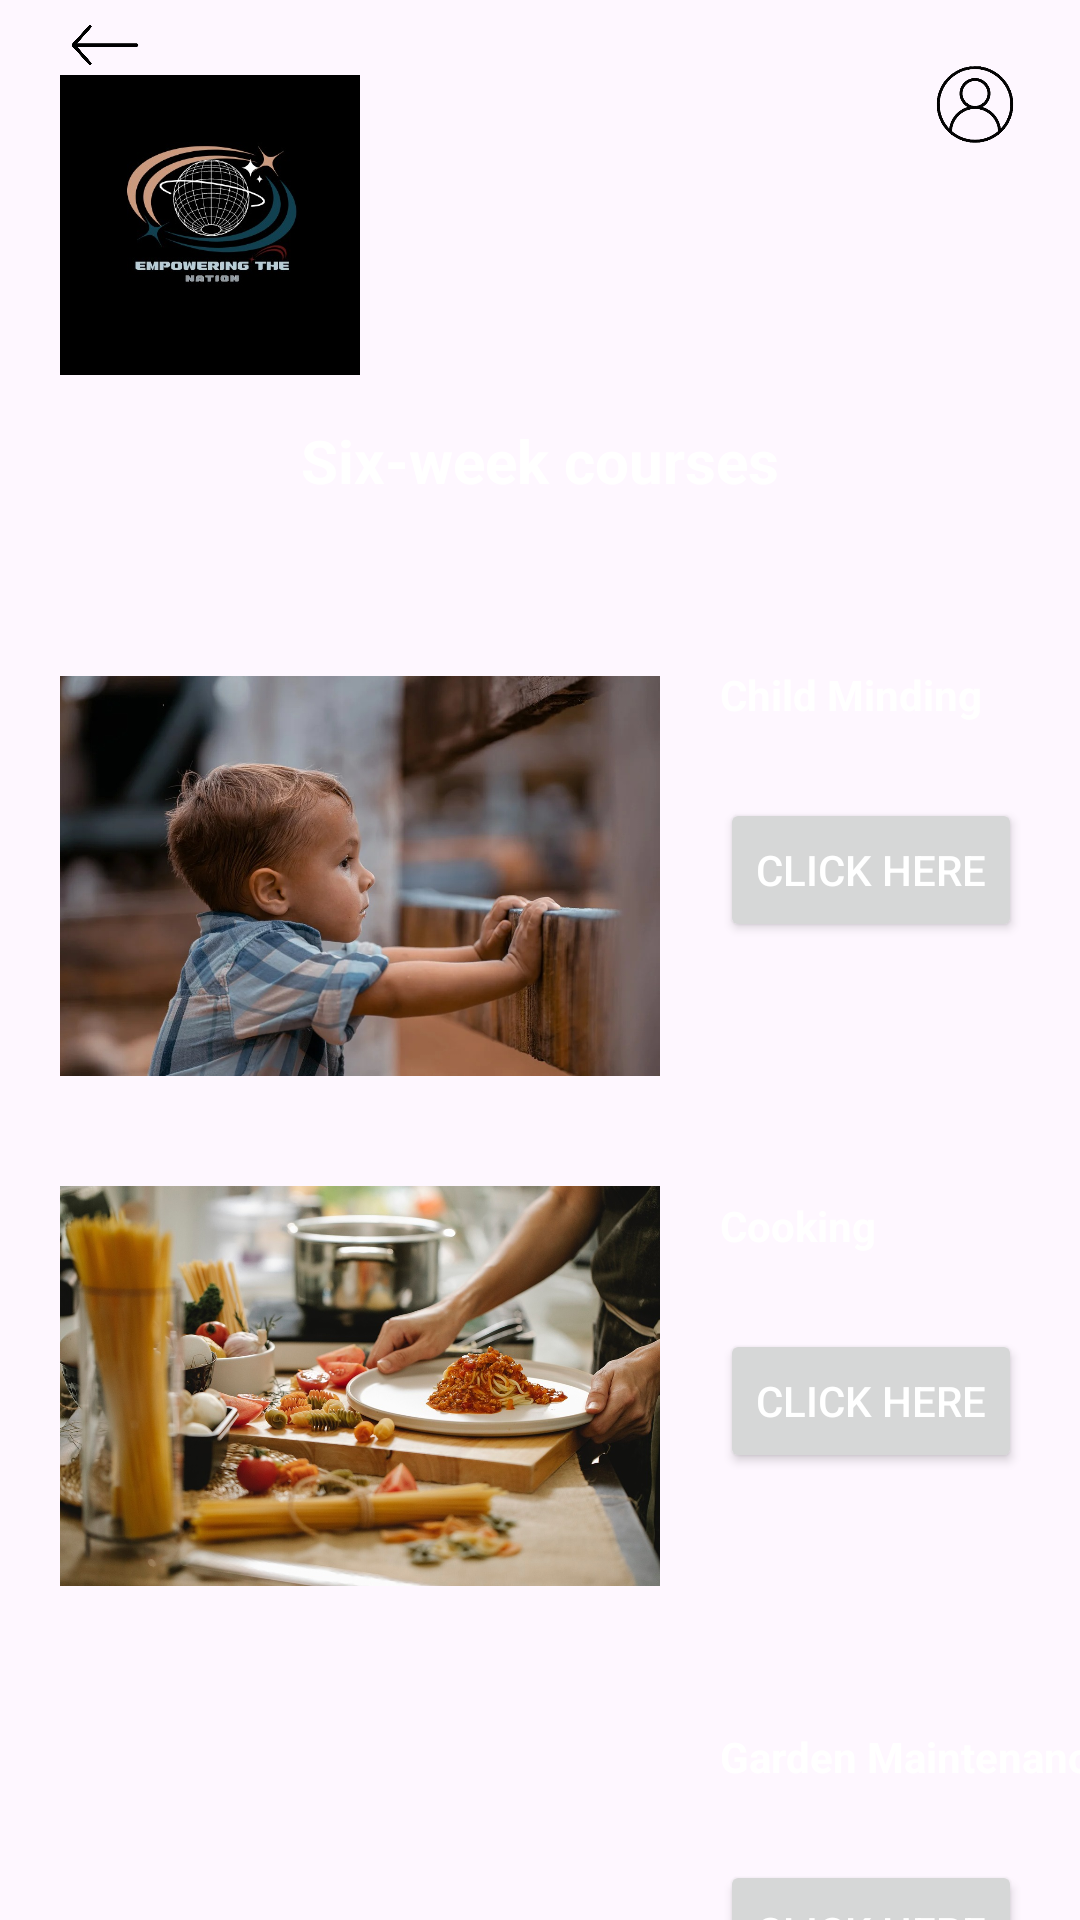

Icon click points for this 1080 × 1920 phone screenshot, format [x,y]:
back: [105,45]
